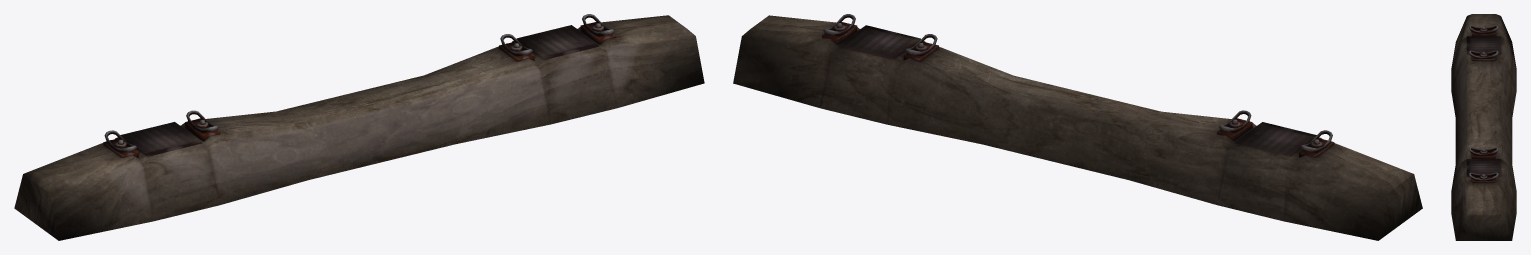
File: SM_Sleeper_Wooden.FBX
3 views of the same model, side by side, from view 1: azimuth 30°, elevation 25°; view 2: azimuth 150°, elevation 25°; view 3: azimuth 270°, elevation 25° (orthographic). The views are drawn at different scales.
Parts seen in each view (by area): view 1: SM_Sleeper_Wooden_LOD0; view 2: SM_Sleeper_Wooden_LOD0; view 3: SM_Sleeper_Wooden_LOD0.
Part boxes in pixels (x1,y1,x2,y2): SM_Sleeper_Wooden_LOD0: (14, 14, 704, 240); SM_Sleeper_Wooden_LOD0: (733, 14, 1422, 240); SM_Sleeper_Wooden_LOD0: (1451, 14, 1516, 240).
Size of the model in its own units: 262 by 36.47 by 25.52.
